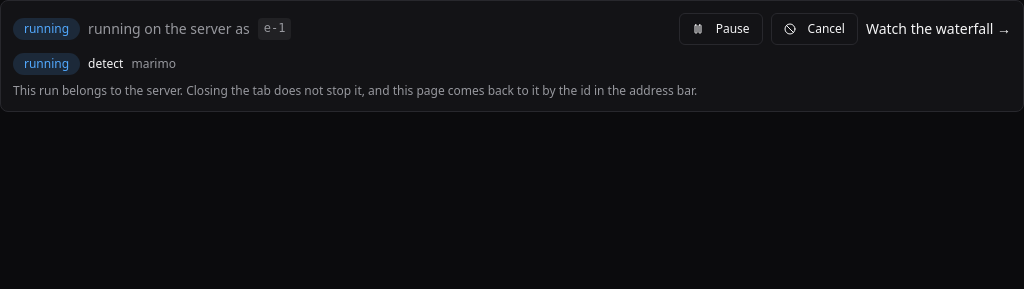
Scenario: reopening one step of a run › says the runtime is not answering rather than showing nothing
The image size is (1024, 289).
Click the button "running detect marimo" at {"x": 47, "y": 64}, box [13,53,1011,75]
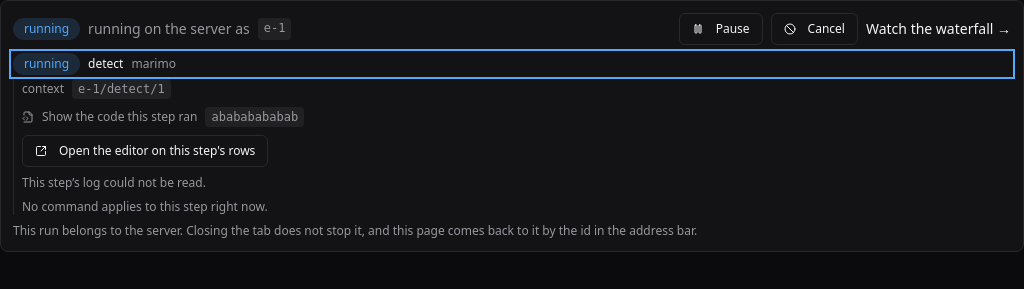
Click the button "Show the code this step ran" at {"x": 110, "y": 117}, box [22,109,198,125]
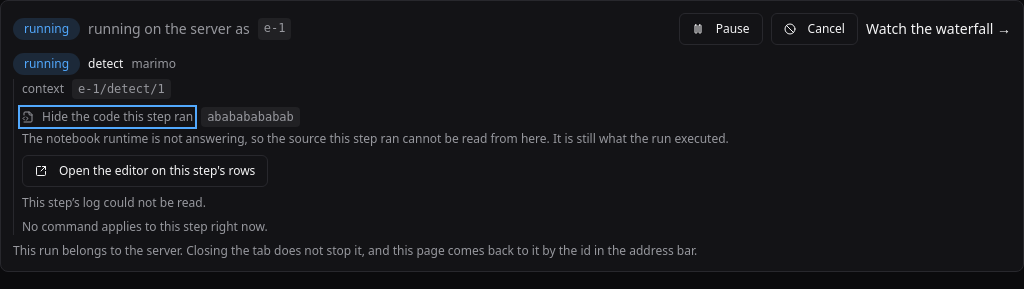
Result: the text "It is still what the run executed" is shown at [22,130,729,147]
